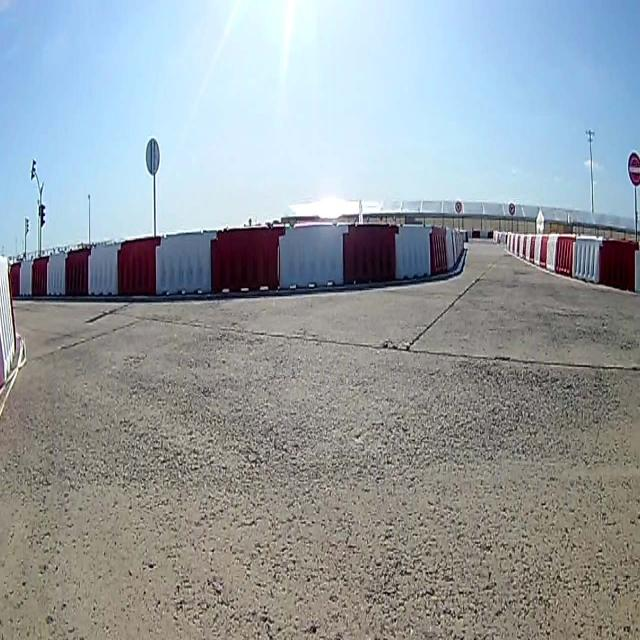girisyok: (627, 148, 640, 190)
